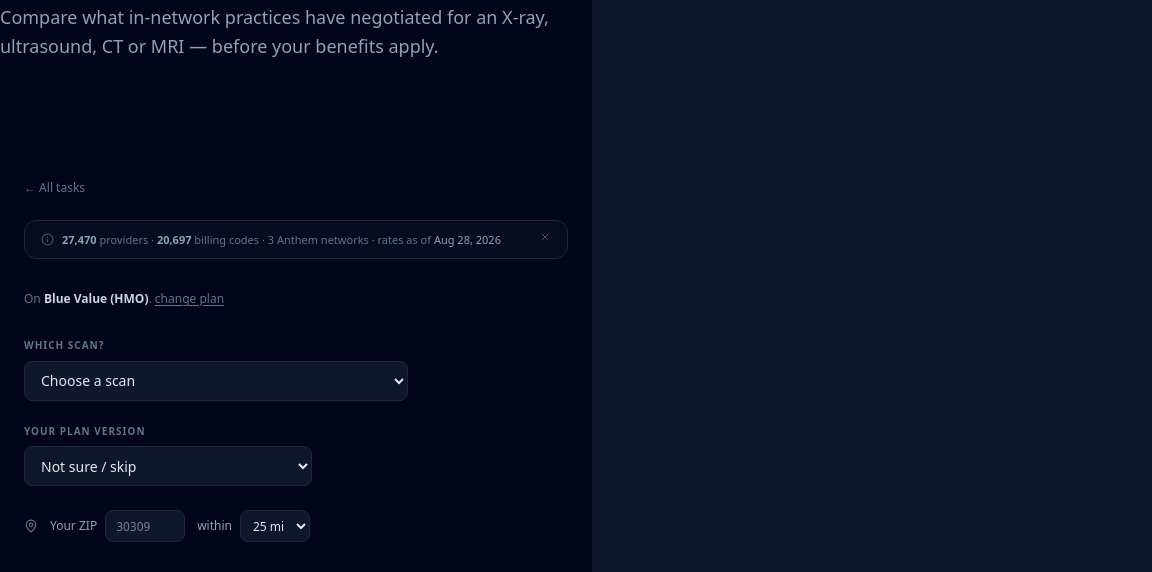
Test: ImagingFinder › shows an error rather than stale results when the request fails
Select "Head CT" in the dropdown labelled "Which scan?": {"x": 216, "y": 381} [24,361,408,401]
(page scrolled)
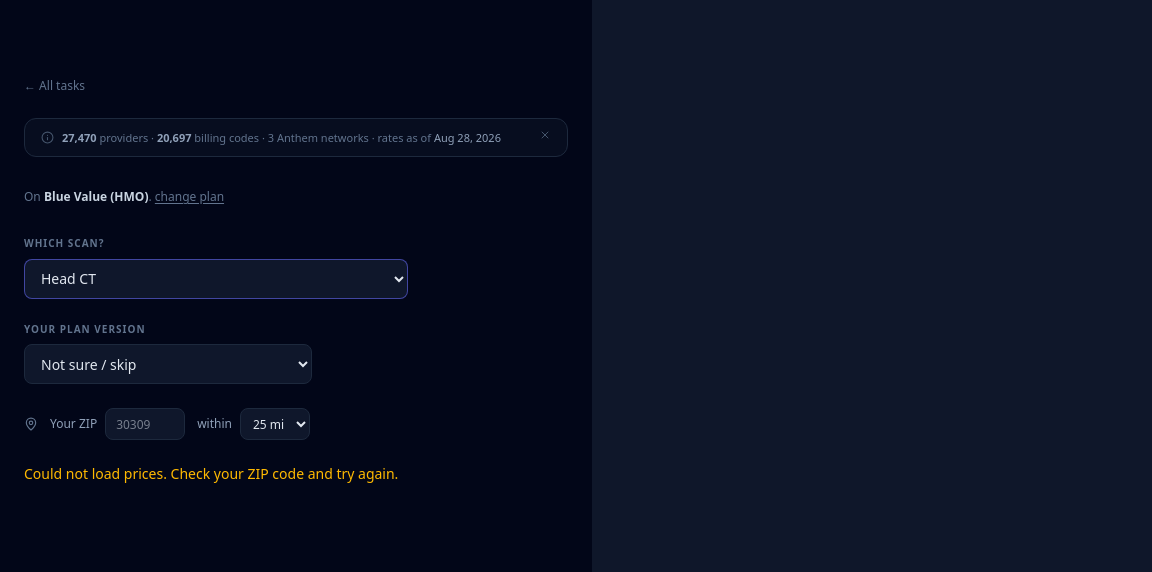
Expected: the message shows "Could not load prices", [24,464,398,483]
